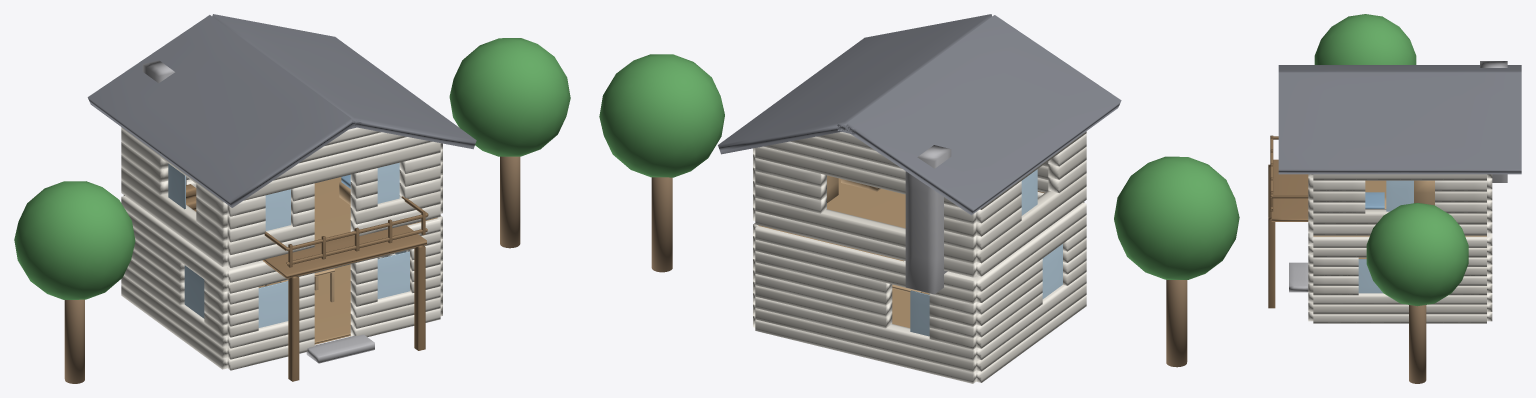
The model's file is cabana_2_posada_dos_plantas.glb.
The picture shows the model from 3 angles, left to right: view 1: azimuth 30°, elevation 25°; view 2: azimuth 150°, elevation 25°; view 3: azimuth 270°, elevation 25°; orthographic projection. The views are drawn at different scales.
Parts seen in each view (by area): view 1: Muro (×33), TechoIzq, Arbol1_Copa, Arbol2_Copa, TechoDer, Cristal (×6), Balcon, Fronton (×2), Pilar (×2), SueloPB, Arbol2_Tronco, SueloPA (+4 smaller); view 2: Muro (×35), TechoIzq, Arbol2_Copa, Arbol1_Copa, TechoDer, Chimenea, Fronton (×2), SueloPA, Cristal (×3), Arbol2_Tronco, Arbol1_Tronco, SueloPB; view 3: TechoDer, Muro (×20), Arbol2_Copa, Arbol1_Copa, TechoIzq, Balcon, Arbol2_Tronco, Cristal (×2), Pilar, Escalon, Armario, SueloPA (+2 smaller).
Boxes of the visible parts, x1,y1,x2,y2 form: Muro (×33): [121, 129, 440, 370]; TechoIzq: [87, 15, 354, 207]; Arbol1_Copa: [14, 181, 135, 299]; Arbol2_Copa: [449, 38, 570, 156]; TechoDer: [212, 14, 476, 149]; Cristal (×6): [168, 162, 409, 327]; Balcon: [262, 225, 426, 278]; Fronton (×2): [273, 132, 432, 180]; Pilar (×2): [288, 245, 425, 381]; SueloPB: [258, 264, 350, 344]; Arbol2_Tronco: [500, 156, 520, 248]; SueloPA: [314, 177, 437, 240]; Muro (×35): [755, 146, 1086, 383]; TechoIzq: [845, 15, 1121, 215]; Arbol2_Copa: [599, 54, 724, 177]; Arbol1_Copa: [1114, 156, 1239, 279]; TechoDer: [718, 14, 992, 154]; Chimenea: [905, 145, 951, 294]; Fronton (×2): [763, 136, 905, 181]; SueloPA: [758, 178, 905, 261]; Cristal (×3): [910, 169, 1062, 336]; Arbol2_Tronco: [651, 177, 672, 272]; Arbol1_Tronco: [1166, 280, 1187, 367]; SueloPB: [892, 288, 929, 327]; TechoDer: [1278, 72, 1521, 174]; Muro (×20): [1313, 174, 1486, 323]; Arbol2_Copa: [1366, 203, 1468, 306]; Arbol1_Copa: [1314, 14, 1416, 64]; TechoIzq: [1278, 65, 1521, 72]; Balcon: [1271, 159, 1308, 221]; Arbol2_Tronco: [1409, 305, 1426, 383]; Cristal (×2): [1358, 180, 1413, 293]; Pilar: [1268, 217, 1275, 308]; Escalon: [1289, 262, 1308, 292]; Armario: [1414, 180, 1434, 205]; SueloPA: [1313, 180, 1486, 236].
Size of what is drawn, in the model's own units: 1.06 by 0.4317 by 0.4745.
